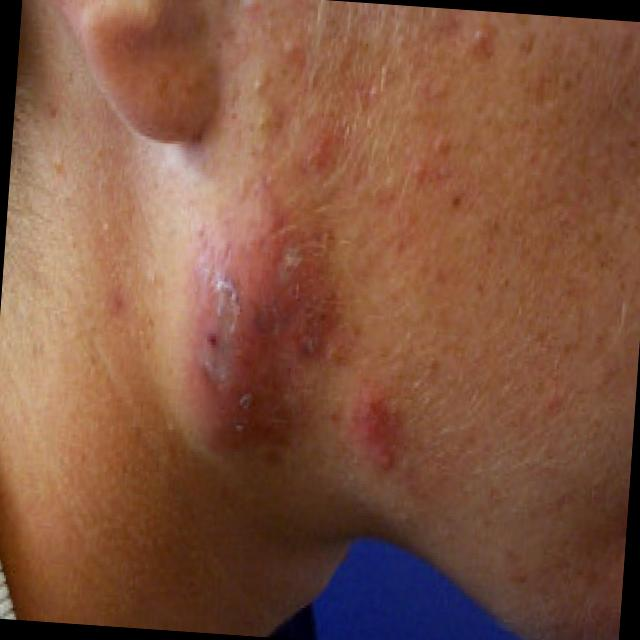blackhead: (520, 36, 534, 54), (450, 195, 460, 206)
nodule: (348, 385, 390, 445)
